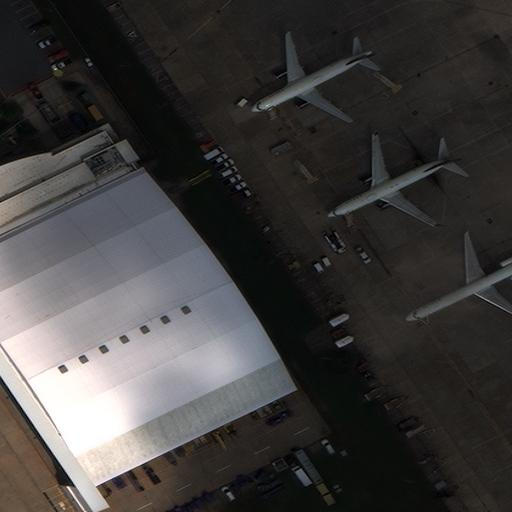Medium Civil Transport: (326, 135, 462, 226), (248, 34, 373, 123), (403, 234, 511, 321)
